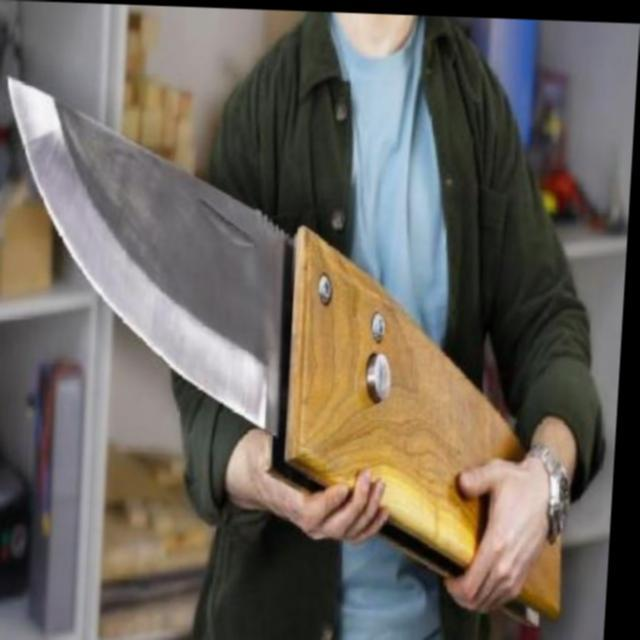weapon: (0, 70, 600, 626)
